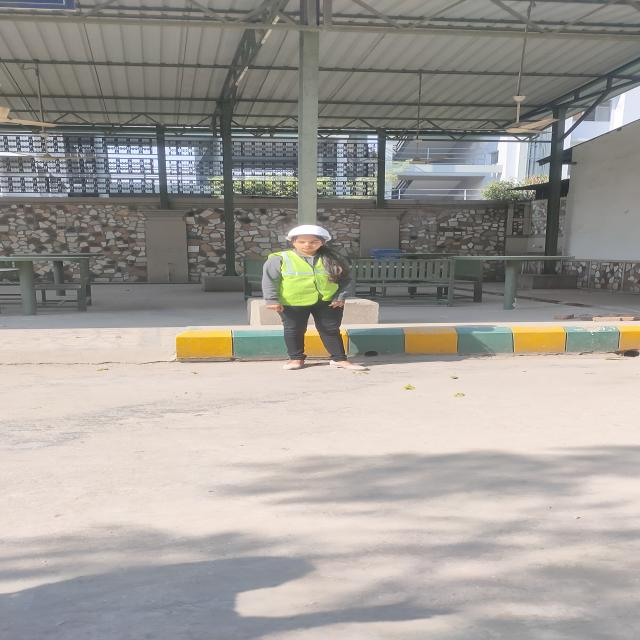safe: (268, 224, 340, 370)
